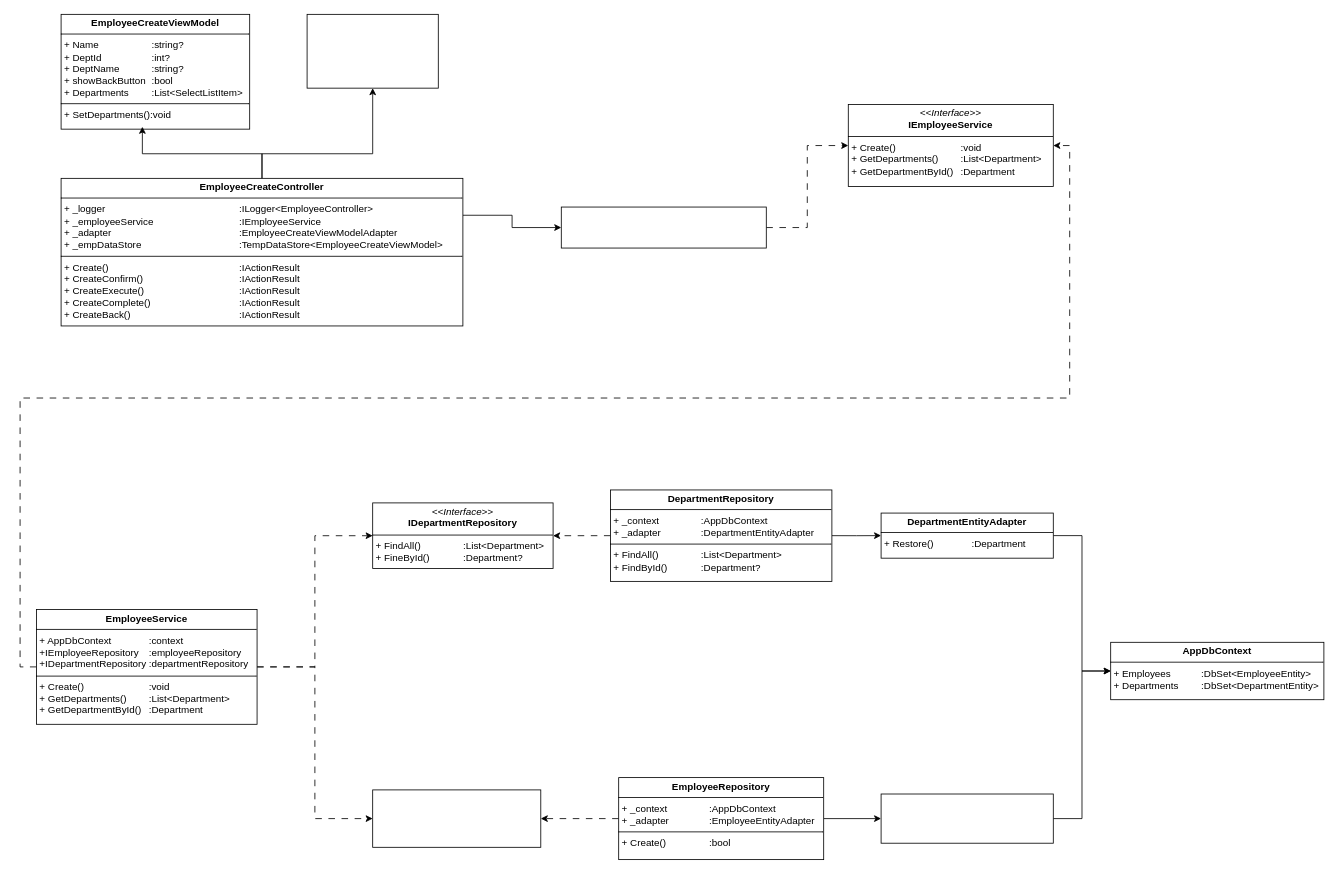
This 1338x874 diagram has some shape labels left out. The shapes that lost their labels are listed below. From the top down, each one's box as (x1, y1, x2, y2) in pixels, then its label:
(306, 14, 438, 88): TempDataStore + _key :string + Load() :T? + Save() :void
(560, 206, 766, 248): EmployeeCreateViewModelAdapter + Restore () : Employee
(372, 789, 541, 847): <<Interface>> IEmployeeRepository + Create() :bool
(880, 793, 1053, 843): EmployeeEntityAdapter + Convert() :EmployeeEntity
